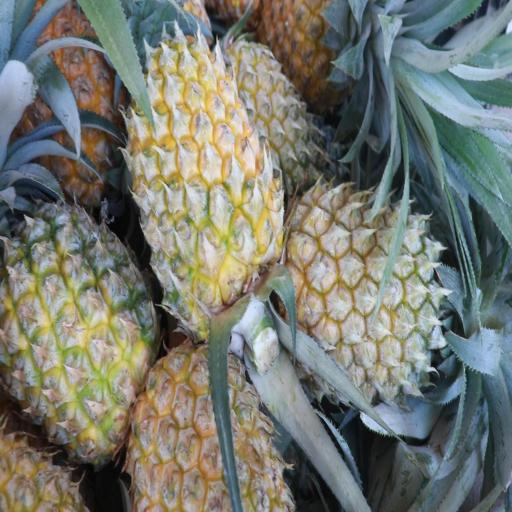------------------------------: (0, 194, 166, 471)
Pineapple - v8 v1: (118, 16, 287, 349), (284, 173, 478, 417), (245, 0, 392, 127)
